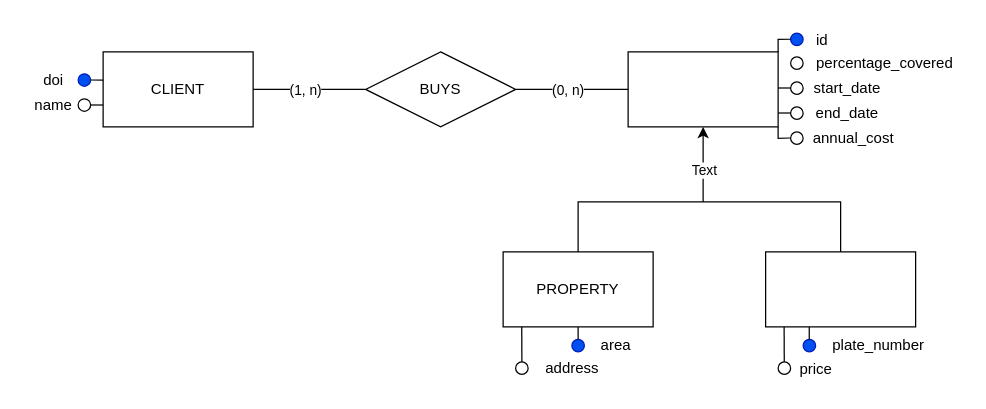
Image size: 986x409. Some labels were removed from this diagram. The shapes that lost their labels are listed below. From the top down, each one's box as (x1, y1, x2, y2) in pixels, then its label:
(627, 51, 778, 127): INSURANCE
(764, 251, 916, 327): VEHICULE
